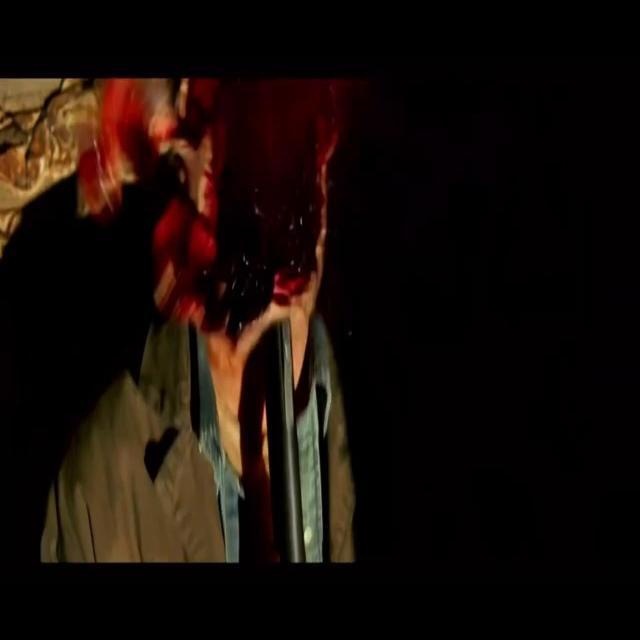flood: (120, 79, 362, 336)
